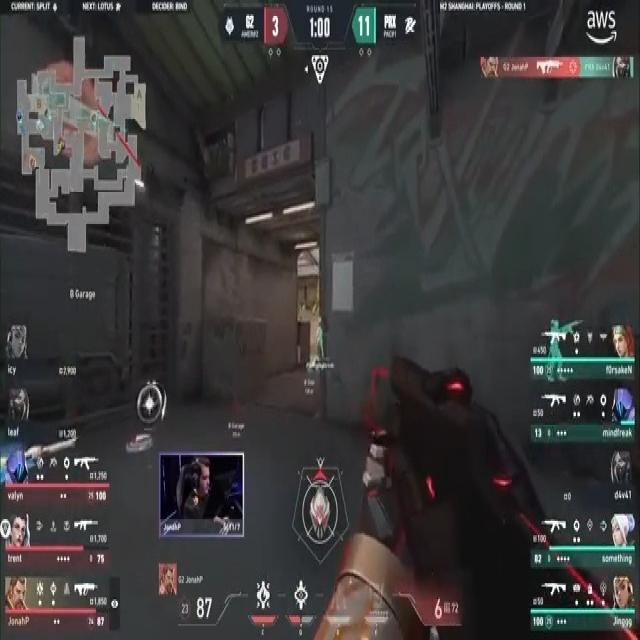orb: (136, 378, 167, 425)
